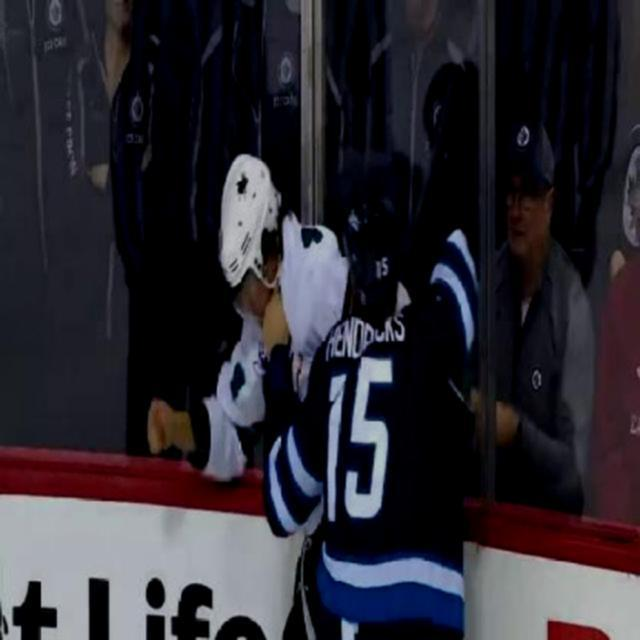fight: (166, 150, 477, 639)
